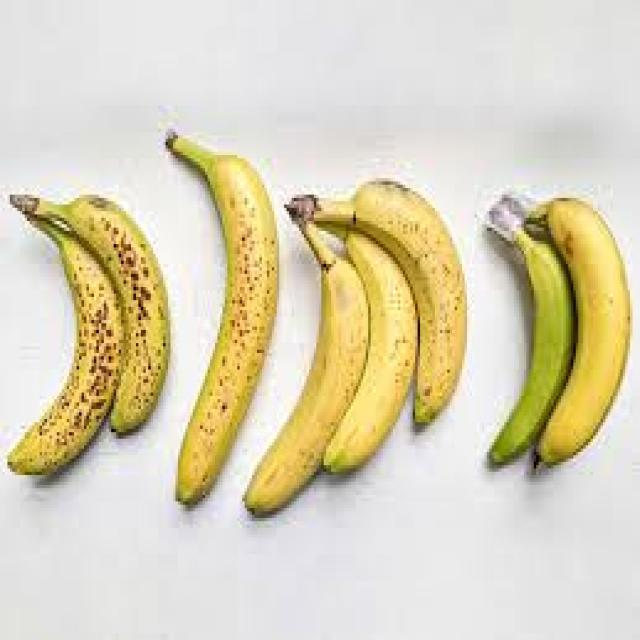Banana: (234, 181, 473, 517), (150, 125, 282, 506), (4, 180, 176, 471), (478, 183, 640, 472)
